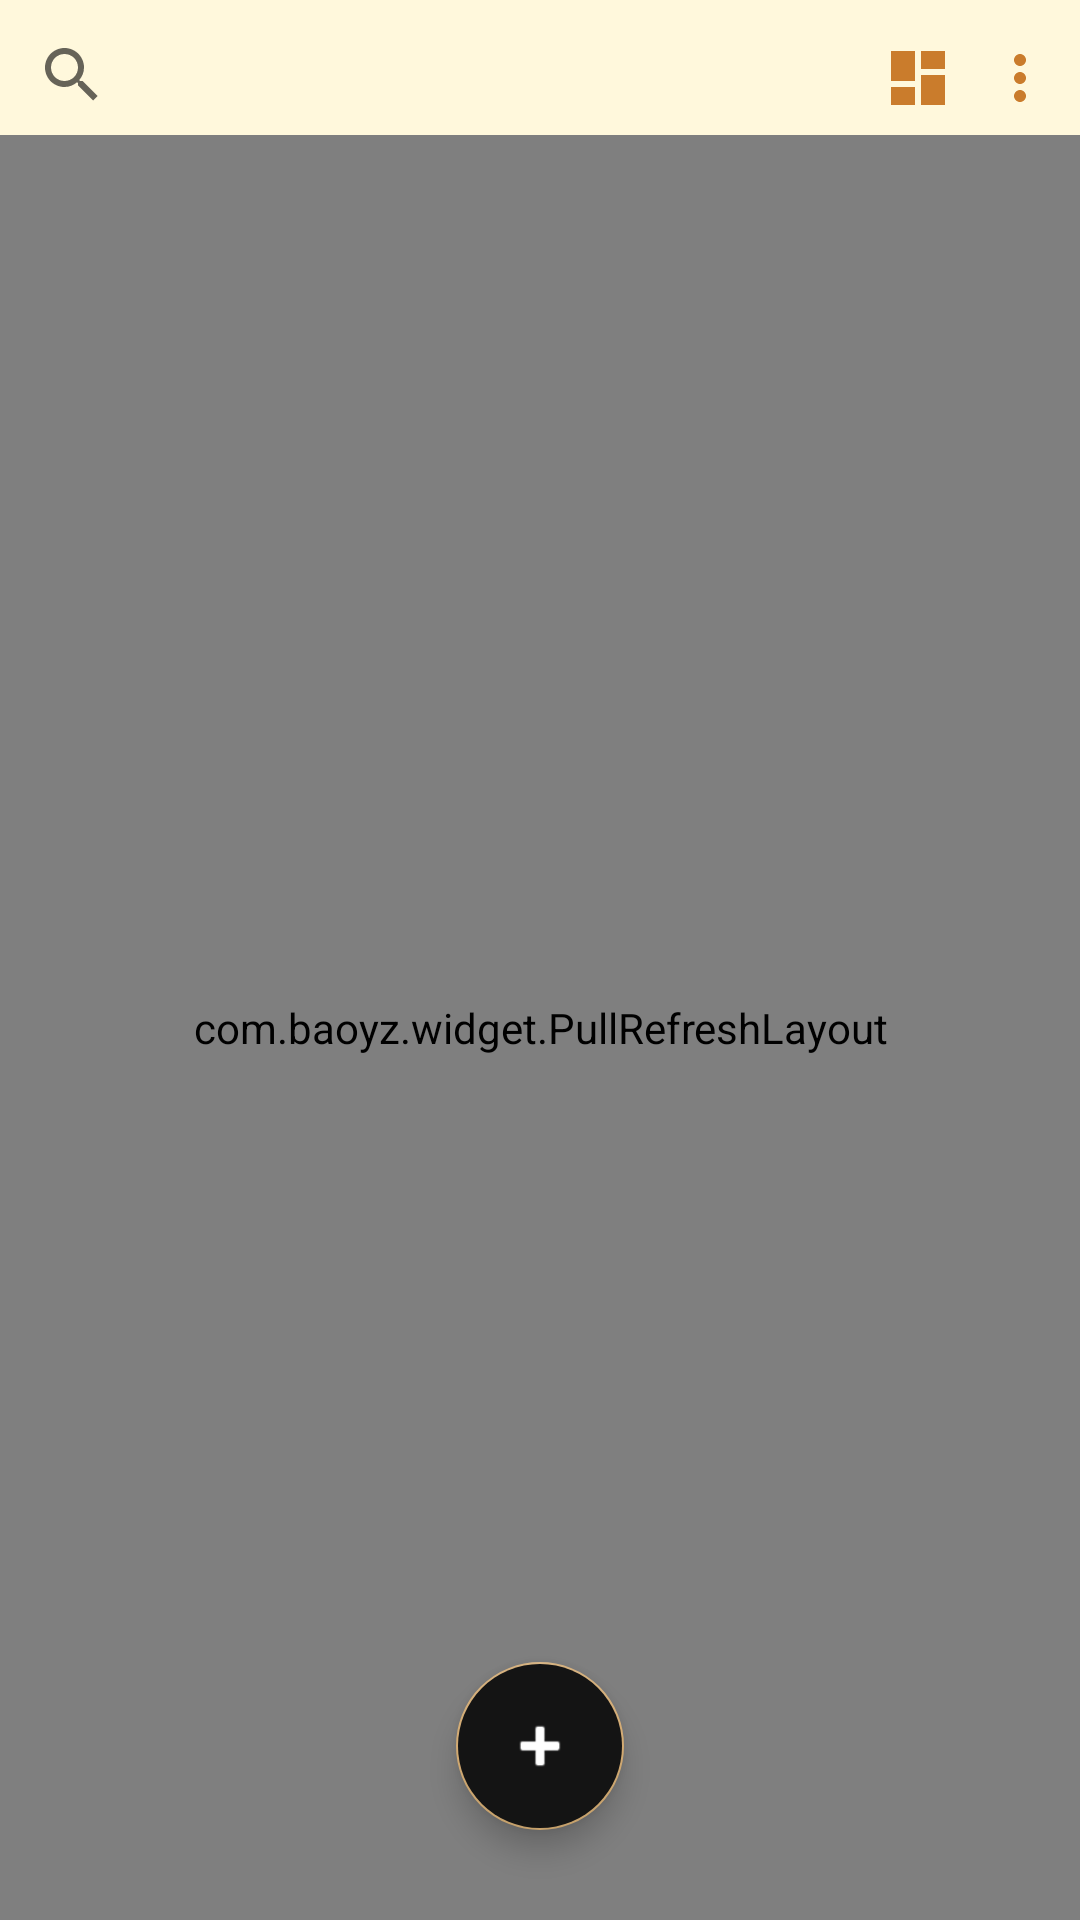

Icons on this 1080*1920 Android screen, each with its box as (x1, y1, x2, y2):
add: (456, 1662, 624, 1830)
dashboard: (891, 51, 945, 105)
more vert: (1014, 54, 1026, 102)
